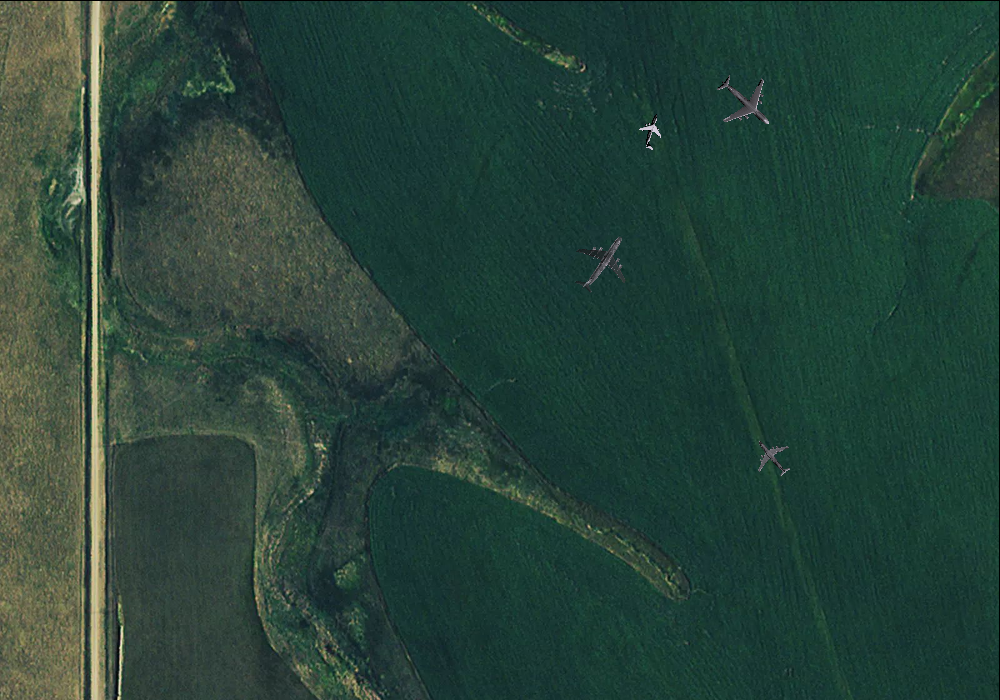plane: (558, 218, 646, 307), (702, 59, 788, 145), (744, 428, 801, 486), (632, 109, 672, 153)
